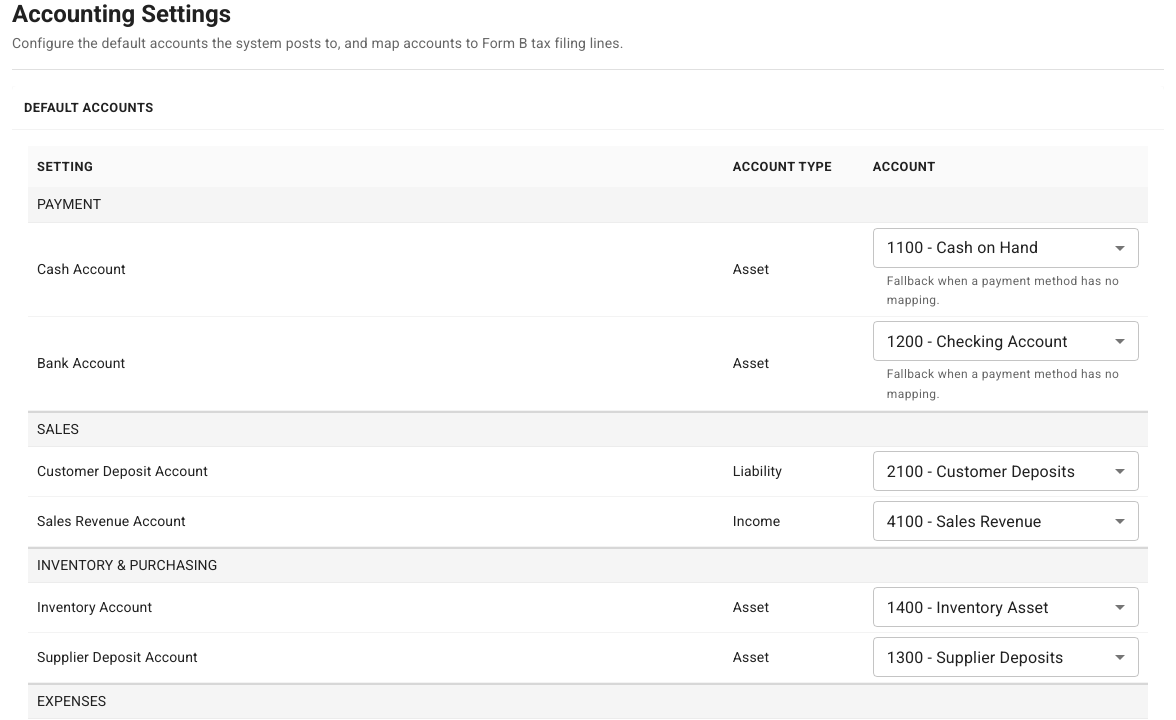
AccountingSettingsPage › Cancel restores a modified field to its loaded value
The width and height of the screenshot is (1176, 720).
Click the dropdown named "Cash Account": [962, 248] box [887, 238, 1038, 257]
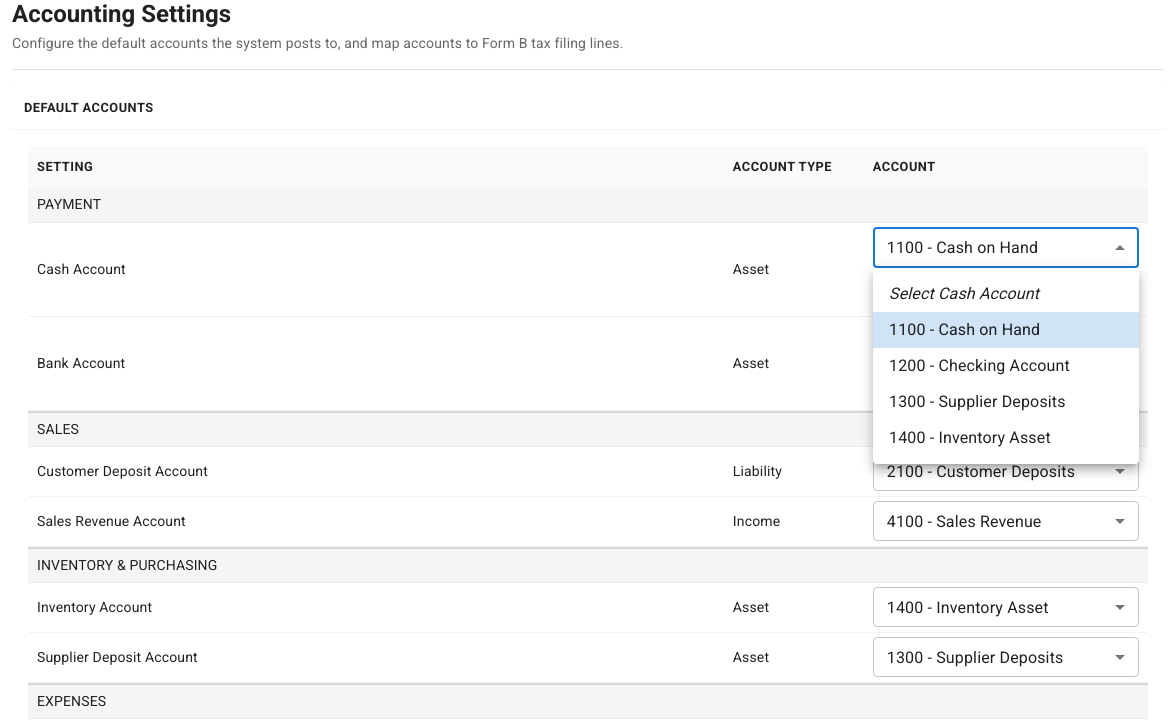
Click the option "1200 - Checking Account": [979, 366] box [889, 356, 1070, 375]
(page scrolled)
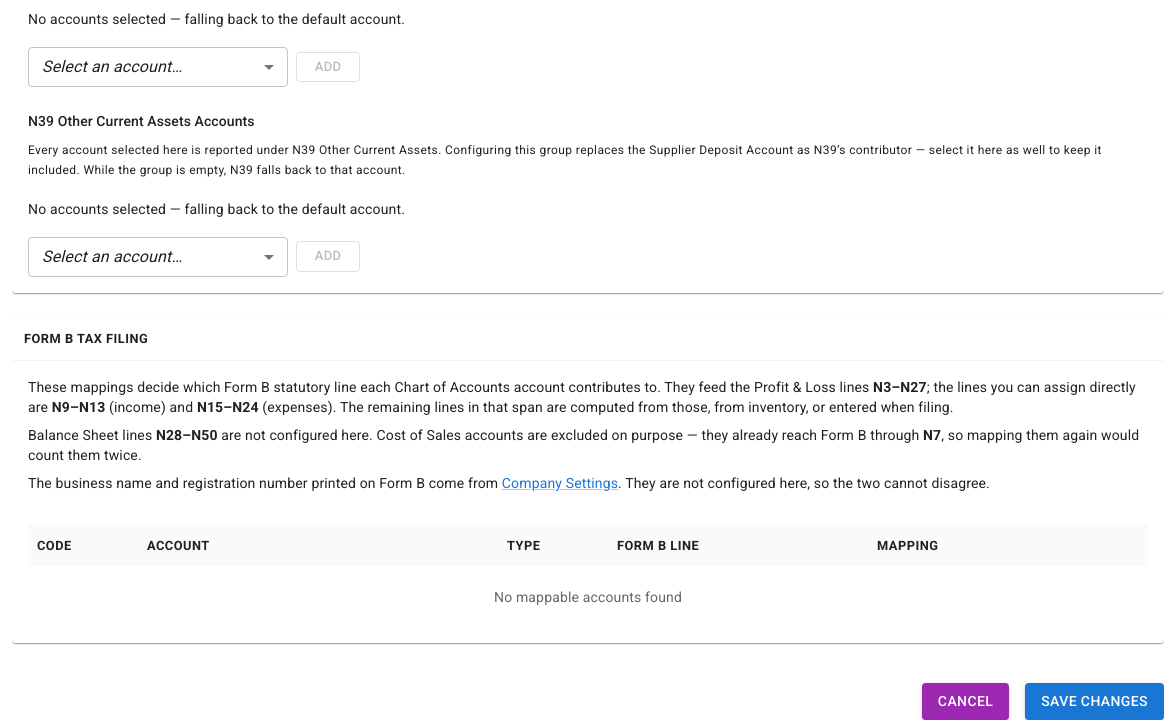
Click the button "Cancel": [966, 701] box [922, 683, 1009, 719]
(page scrolled)
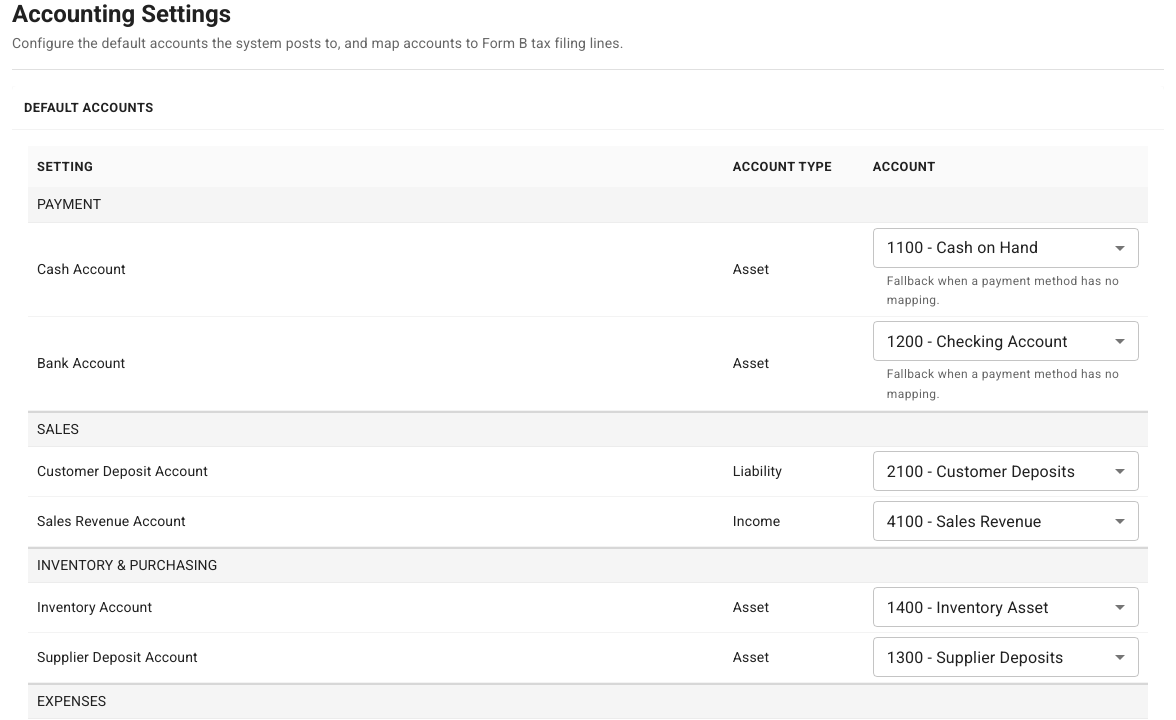
Check: the dropdown named "Cash Account" reads "1100 - Cash on Hand", box [887, 238, 1038, 257]
